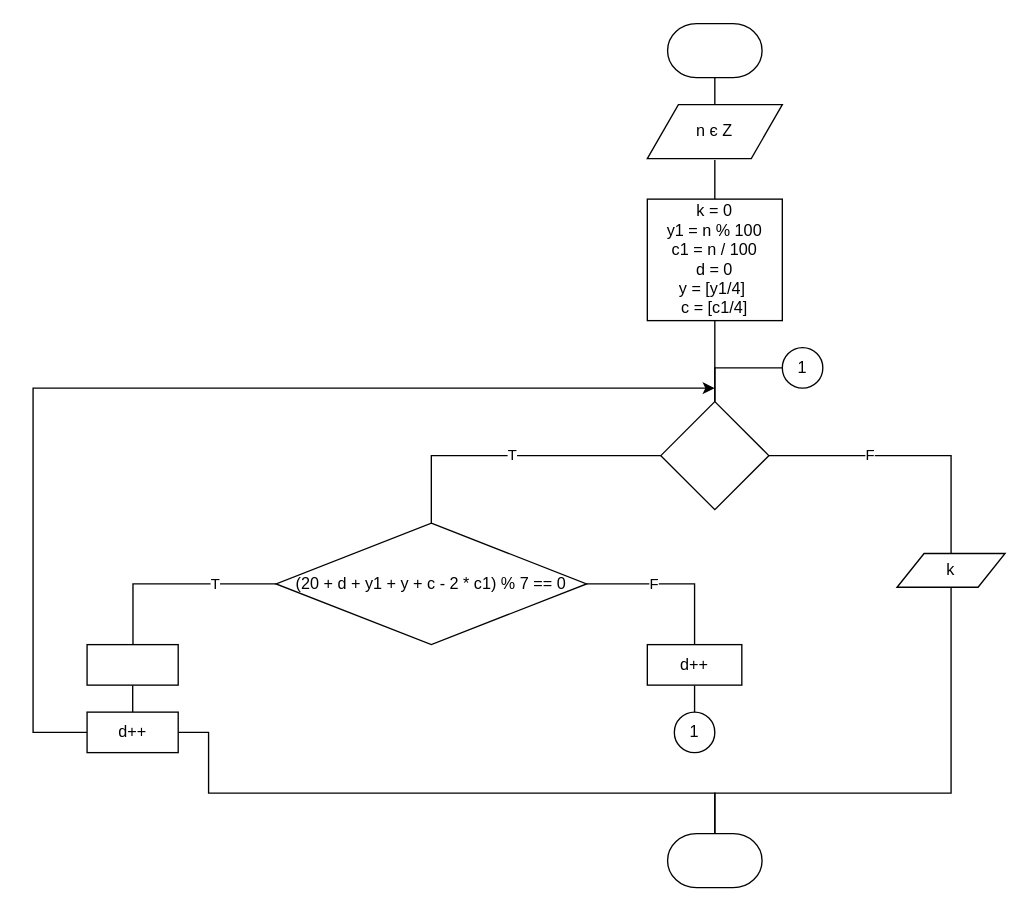
Some shapes in this 1029 by 911 pixel diagram are drawn without their labels. The shapes that lost their labels are listed below. From the top down, each one's centre as x and y in pixels, then its label:
the point at 714,50: start
the point at 714,455: d<=31
the point at 132,664: k = d
the point at 714,860: end
